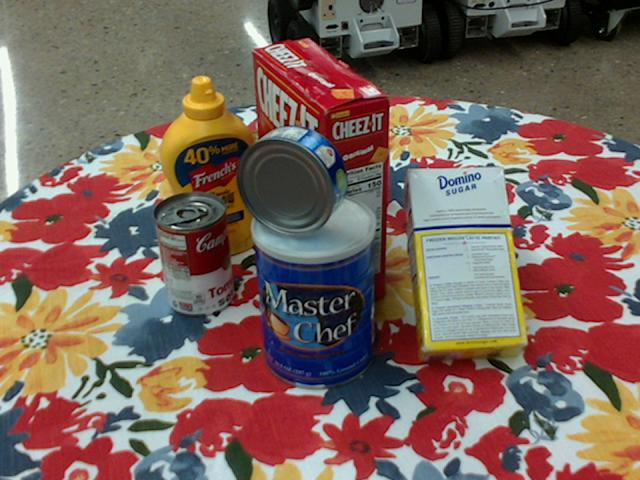cracker_box: (253, 39, 390, 312)
gelatin_box: (315, 126, 390, 210)
large_marker: (255, 79, 296, 132)
master_chef_can: (251, 193, 375, 392)
mug: (404, 169, 507, 277)
mustard_bottle: (159, 77, 261, 259)
potted_meat_can: (226, 122, 320, 219)
sugar_box: (402, 167, 529, 365)
tomato_soup_can: (152, 191, 233, 316)
tuna_fish_can: (236, 125, 348, 237)
